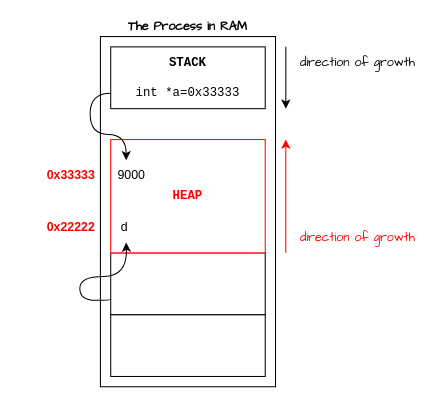
The diagram is 447 pixels wide and 405 high, and some of its shapes have lost their labels. The box of each missing label's shape, as (x1, y1, x2, y2) in pixels:
DATA/STATIC char *c=0x22222: (110, 252, 265, 315)
TEXT/CODE: (110, 314, 265, 376)
